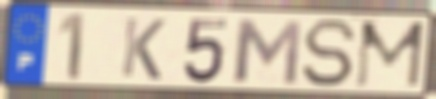1: (57, 11, 86, 84)
5: (180, 17, 231, 84)
K: (118, 15, 168, 82)
M: (352, 19, 428, 90), (232, 17, 305, 88)
S: (299, 17, 360, 90)
